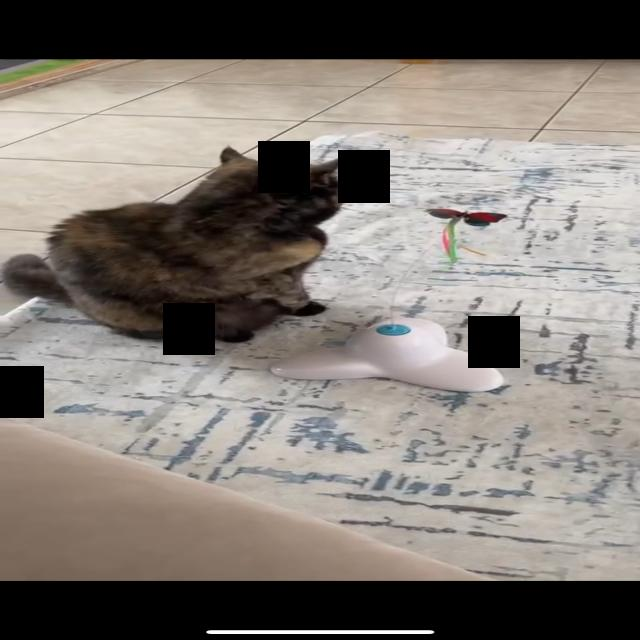authorized: (1, 144, 351, 343)
